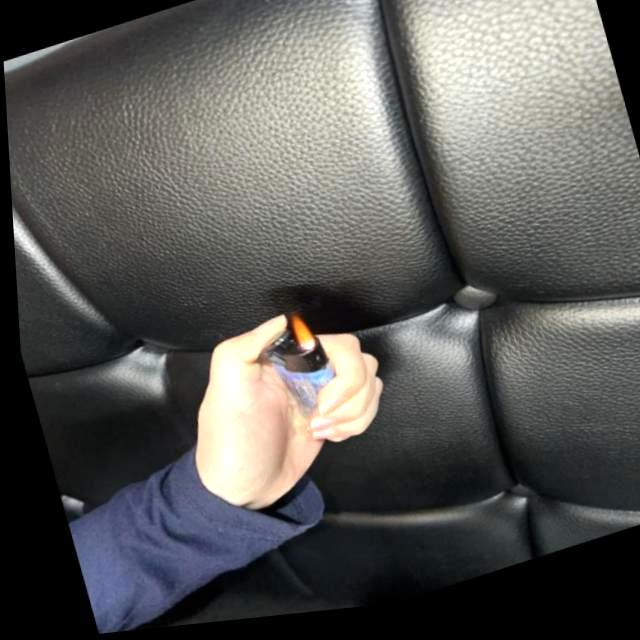fire: (282, 314, 312, 362)
